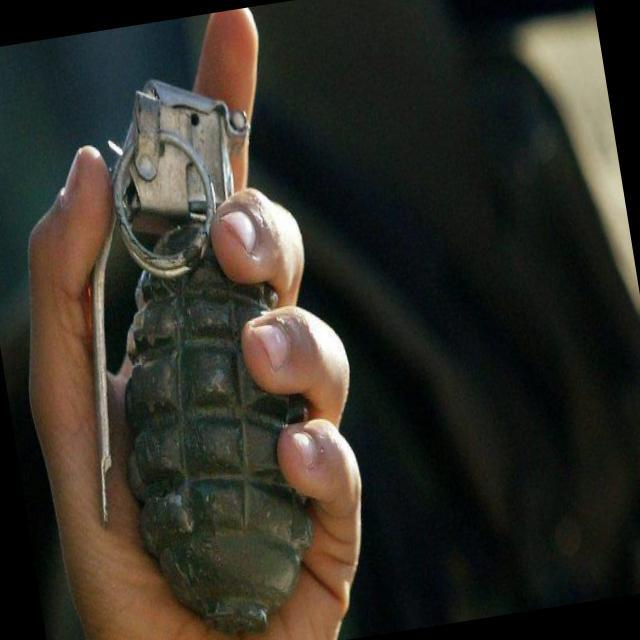grenade: (33, 61, 348, 640)
